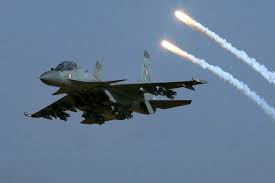maybay_muctieu: (15, 48, 201, 130)
